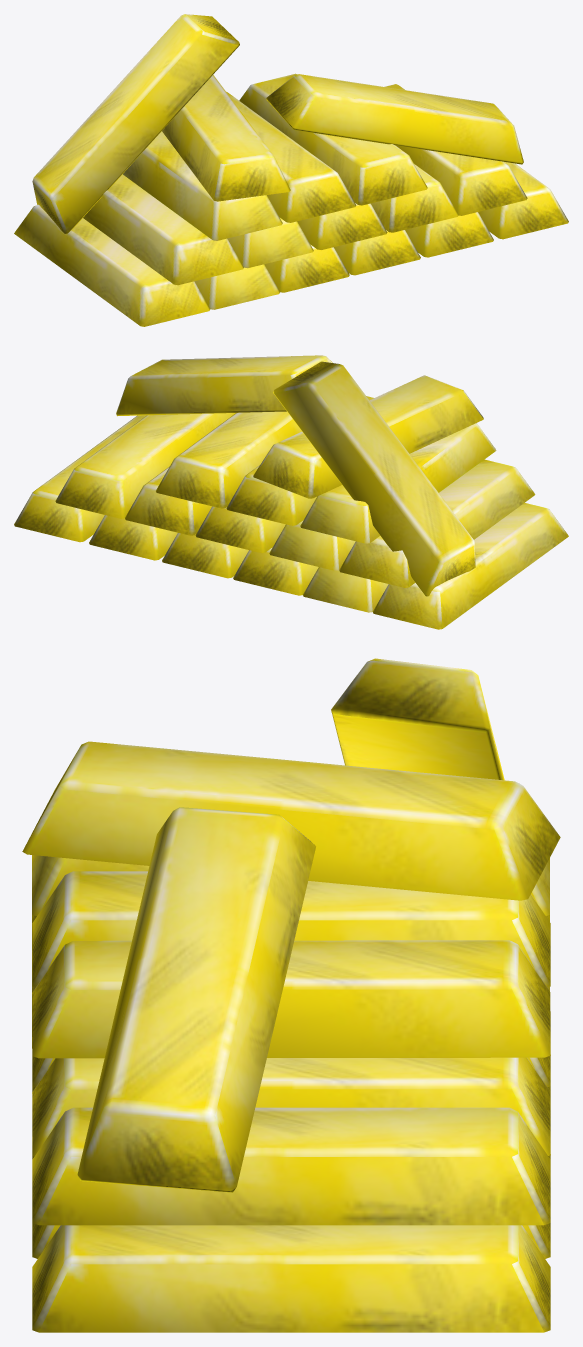
File: ingots.fbx
3 renders of one model, top to bottom at view 1: azimuth 30°, elevation 25°; view 2: azimuth 150°, elevation 25°; view 3: azimuth 270°, elevation 25°, orthographic. The views are drawn at different scales.
Visible parts, largest first — view 1: polySurface23; view 2: polySurface23; view 3: polySurface23.
Part boxes in pixels (x1,y1,x2,y2): polySurface23: [14, 14, 568, 326]; polySurface23: [14, 355, 568, 629]; polySurface23: [22, 658, 560, 1332].
Bounding box in the file's own units: 20.12 × 8.89 × 10.94.
